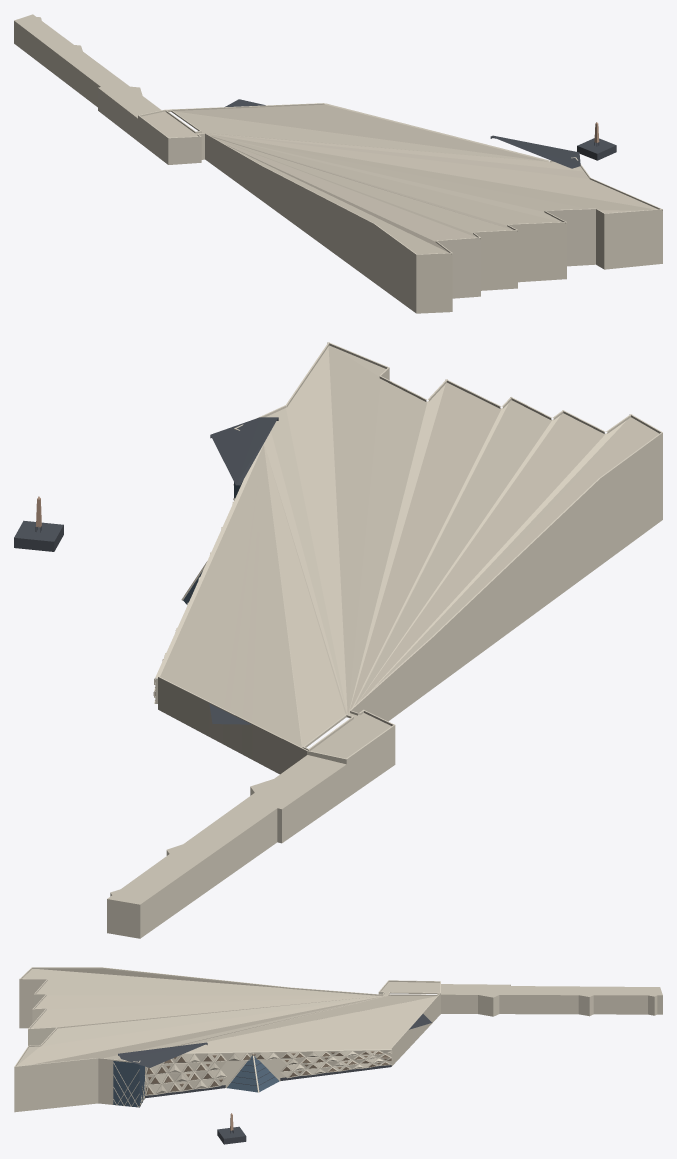
The model's file is giza-grand-egyptian-museum.detail.glb.
3 renders of one model, top to bottom at view 1: azimuth 30°, elevation 25°; view 2: azimuth 150°, elevation 25°; view 3: azimuth 270°, elevation 25°, orthographic. The views are drawn at different scales.
Parts seen in each view (by area): view 1: Grand Egyptian Museum; view 2: Grand Egyptian Museum; view 3: Grand Egyptian Museum.
Part boxes in pixels (x1,y1,x2,y2): Grand Egyptian Museum: (14, 14, 662, 313); Grand Egyptian Museum: (14, 342, 662, 938); Grand Egyptian Museum: (14, 967, 662, 1144).
Size of the model in its own units: 318 by 51.52 by 614.
